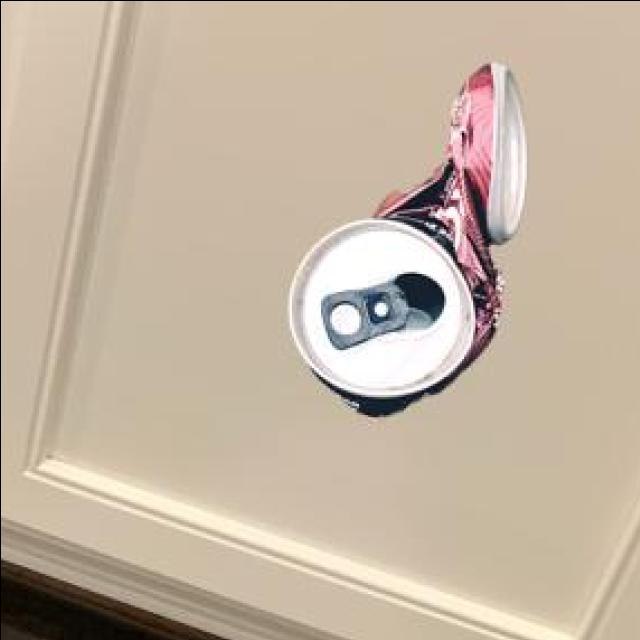logam: (285, 59, 523, 417)
